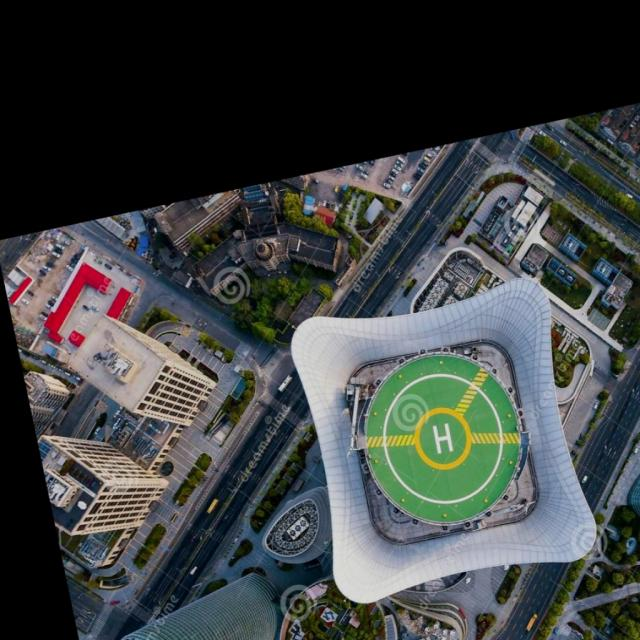helipad: (412, 405, 472, 471)
